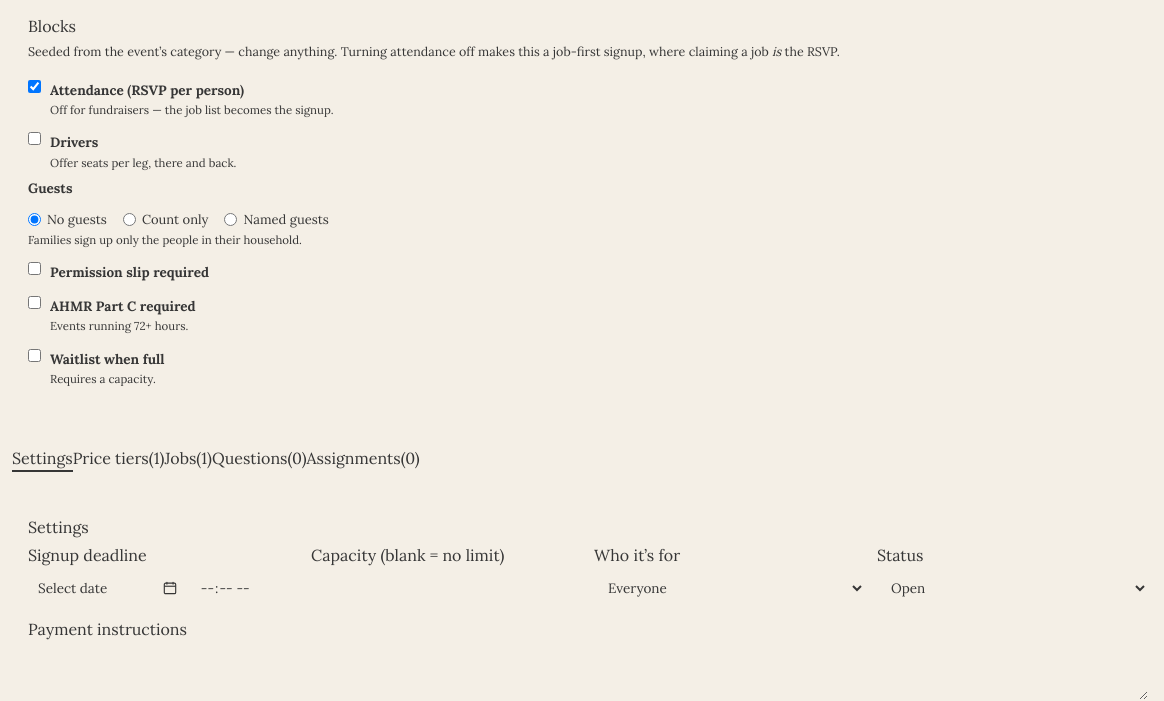
Builder — Blocks stay, every other section is a tab › Tabs_CarryCounts_AndSwitchTheVisibleSection
The image size is (1164, 701).
Expected: the tab "Price tiers (1)" is shown, top-left (73, 446), bottom-right (164, 472)
Click the tab "Jobs (1)".
click(188, 459)  # box top-left (164, 446), bottom-right (212, 472)
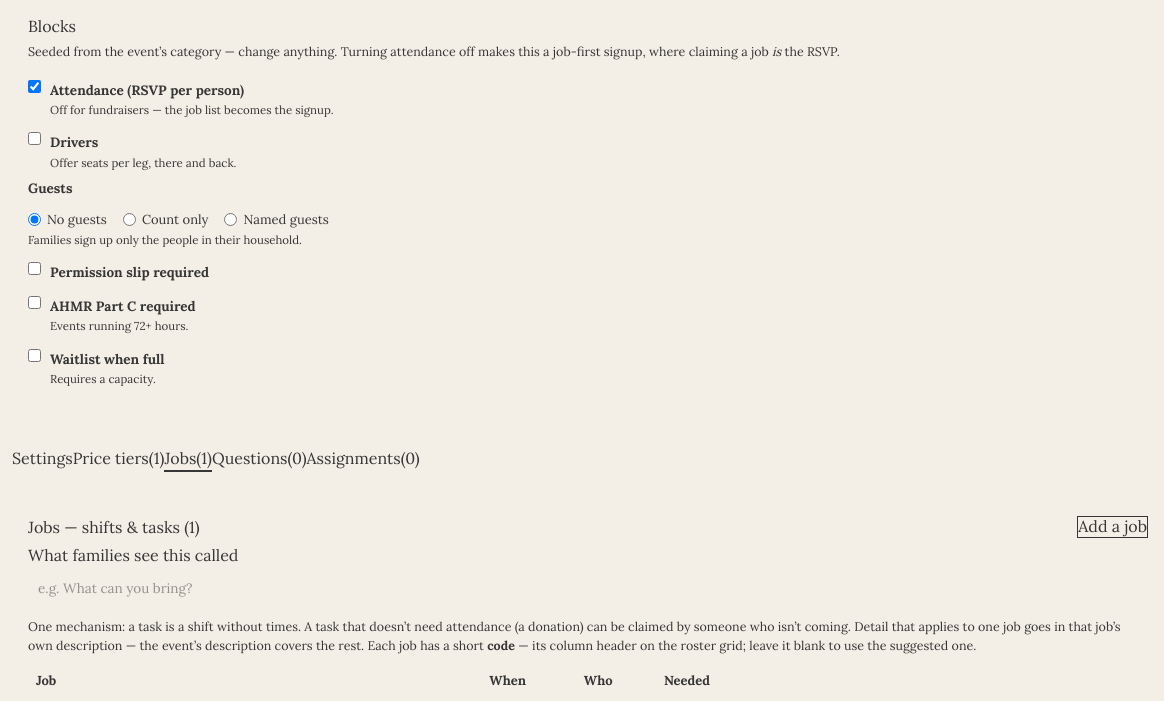
Expected: the heading "Blocks" is shown, top-left (28, 14), bottom-right (76, 38)
Result: the heading "Jobs — shifts & tasks (1)" is shown at top-left (28, 515), bottom-right (200, 539)
